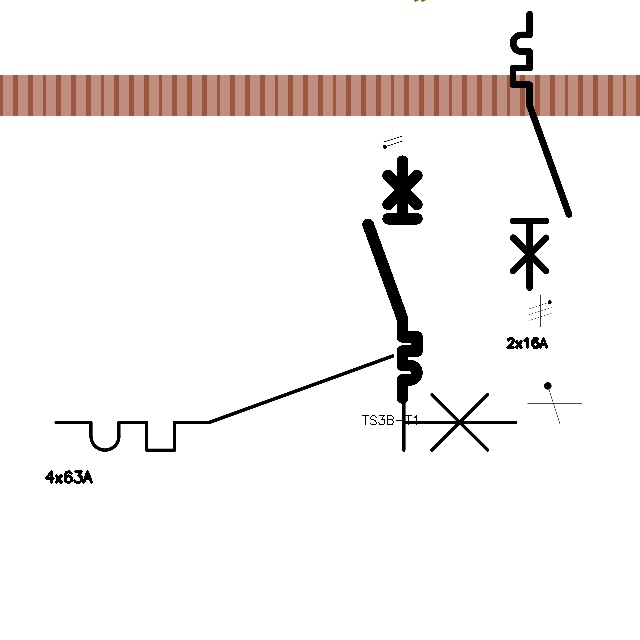interruptor_termomagnetico: (44, 344, 527, 462), (506, 7, 576, 294), (362, 155, 423, 404)
